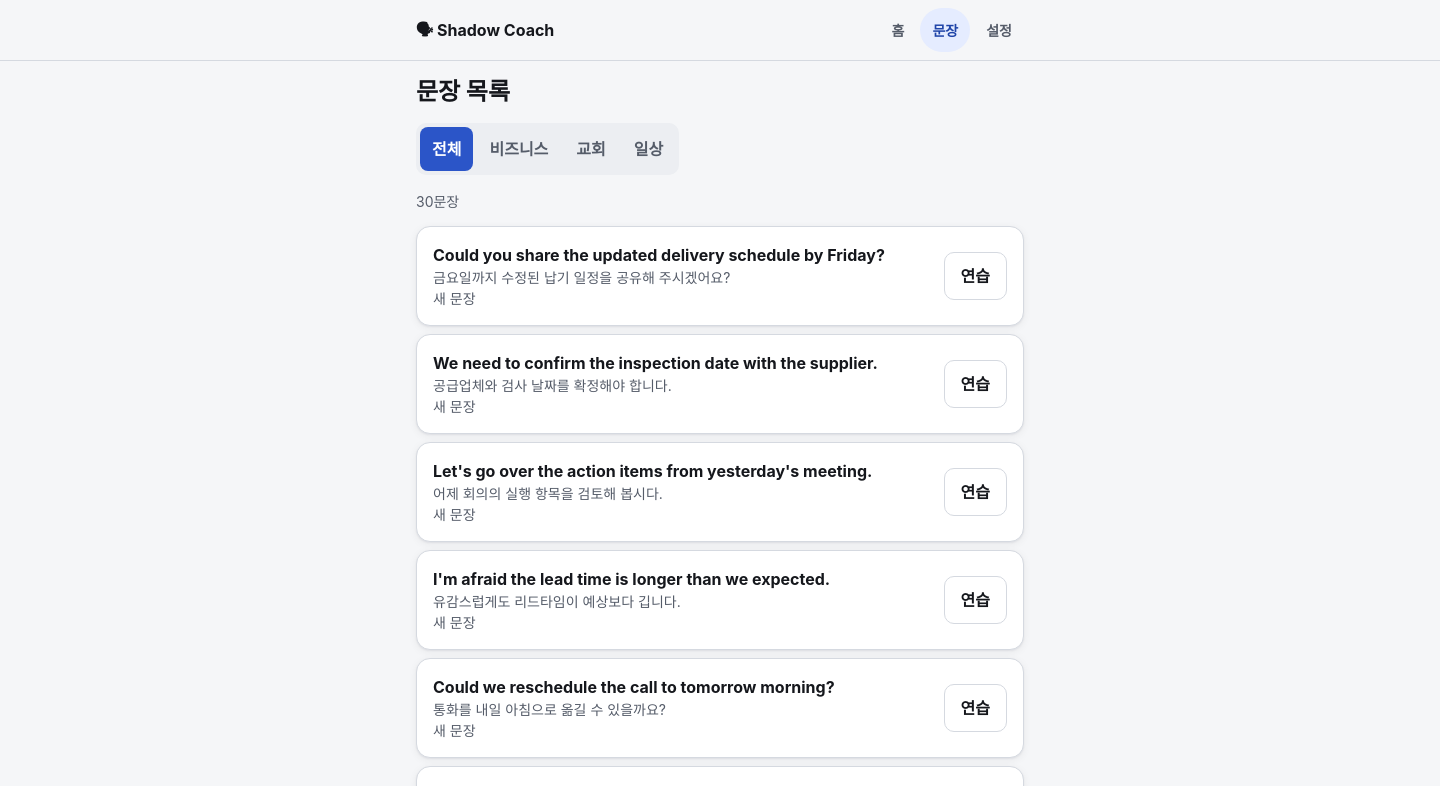
App › lists sentences in the library and practices a single one
Expected: the heading "문장 목록" is shown, [416,77,510,106]
Expected: the text "30문장" is shown, [416,193,459,210]
Step 1. Click the button "일상" → (649, 149), box [622,127,675,171]
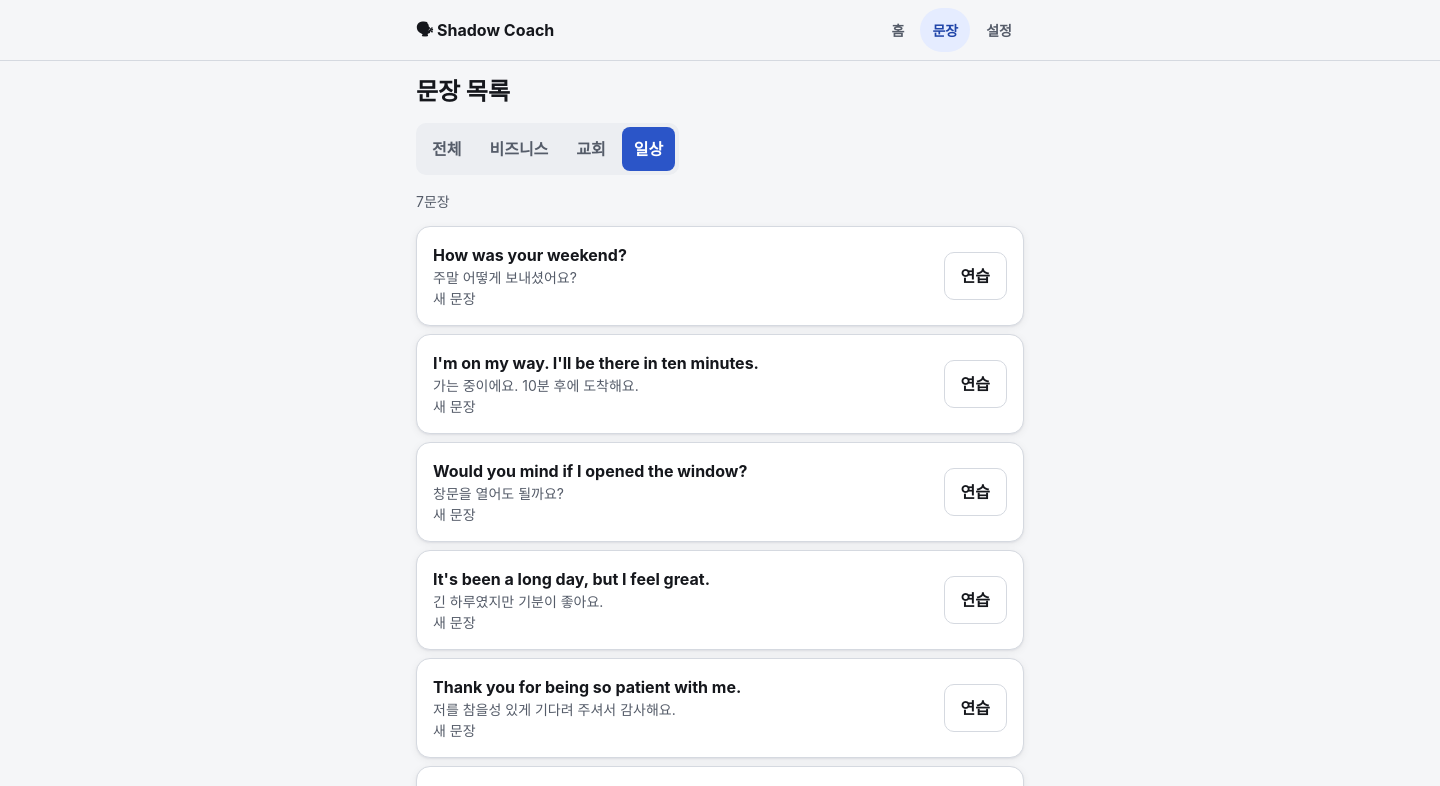
Expected: the text "7문장" is shown, [416,193,450,210]
Step 2. Click the button "연습" in the row of "How was your weekend?" → (975, 276), box [944,252,1007,300]
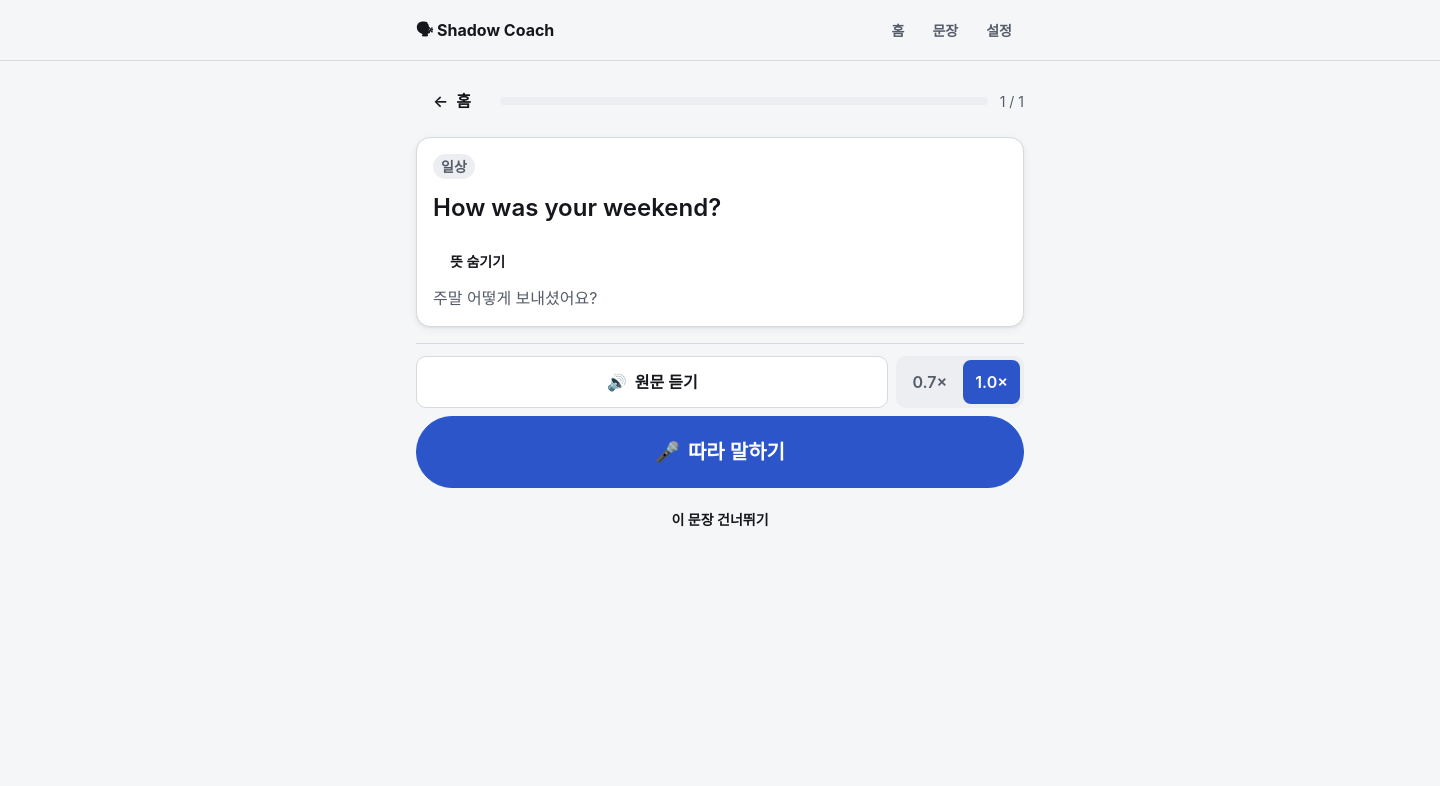
Expected: the text "How was your weekend?" is shown, [433,193,721,222]
Expected: the text "1 / 1" is shown, [1000,90,1024,112]
